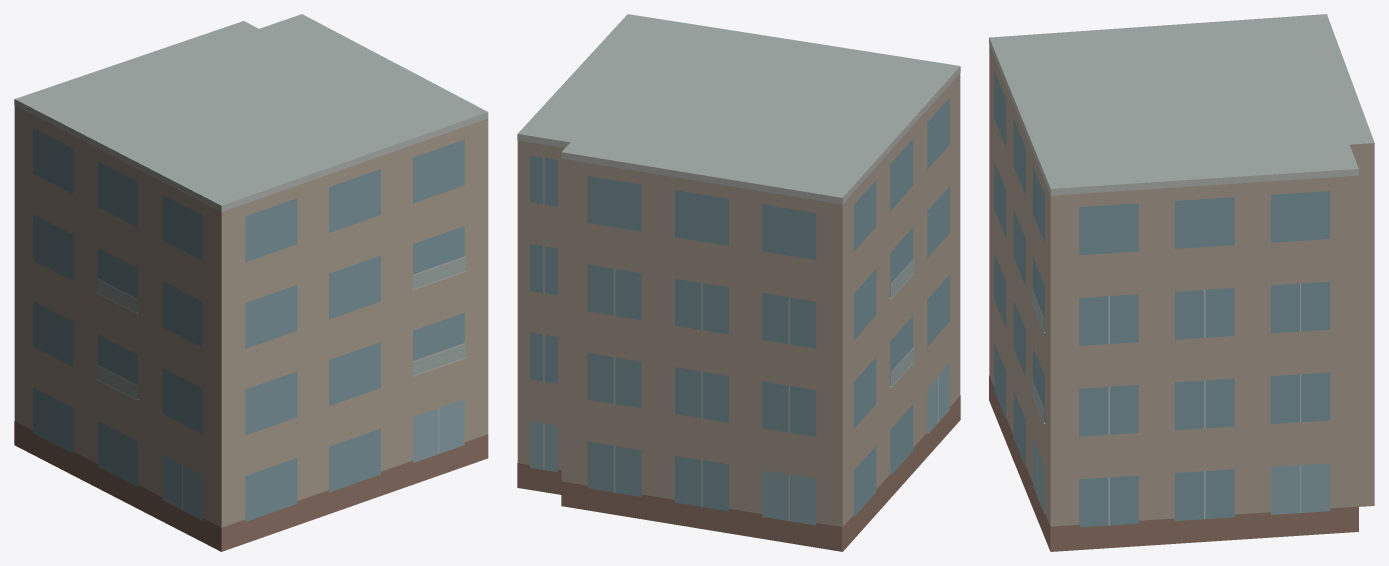
Rendered from survey-upis-32752576.glb.
The picture shows the model from 3 angles, left to right: view 1: azimuth 30°, elevation 25°; view 2: azimuth 150°, elevation 25°; view 3: azimuth 270°, elevation 25°; orthographic projection. The views are drawn at different scales.
Visible parts, largest first — view 1: survey-upis-32752576.tmp; view 2: survey-upis-32752576.tmp; view 3: survey-upis-32752576.tmp.
Boxes of the visible parts, x1,y1,x2,y2 form: survey-upis-32752576.tmp: [14, 14, 488, 551]; survey-upis-32752576.tmp: [517, 14, 960, 551]; survey-upis-32752576.tmp: [989, 14, 1374, 551].
Bounding box in the file's own units: 13.66 × 13.2 × 12.72.
